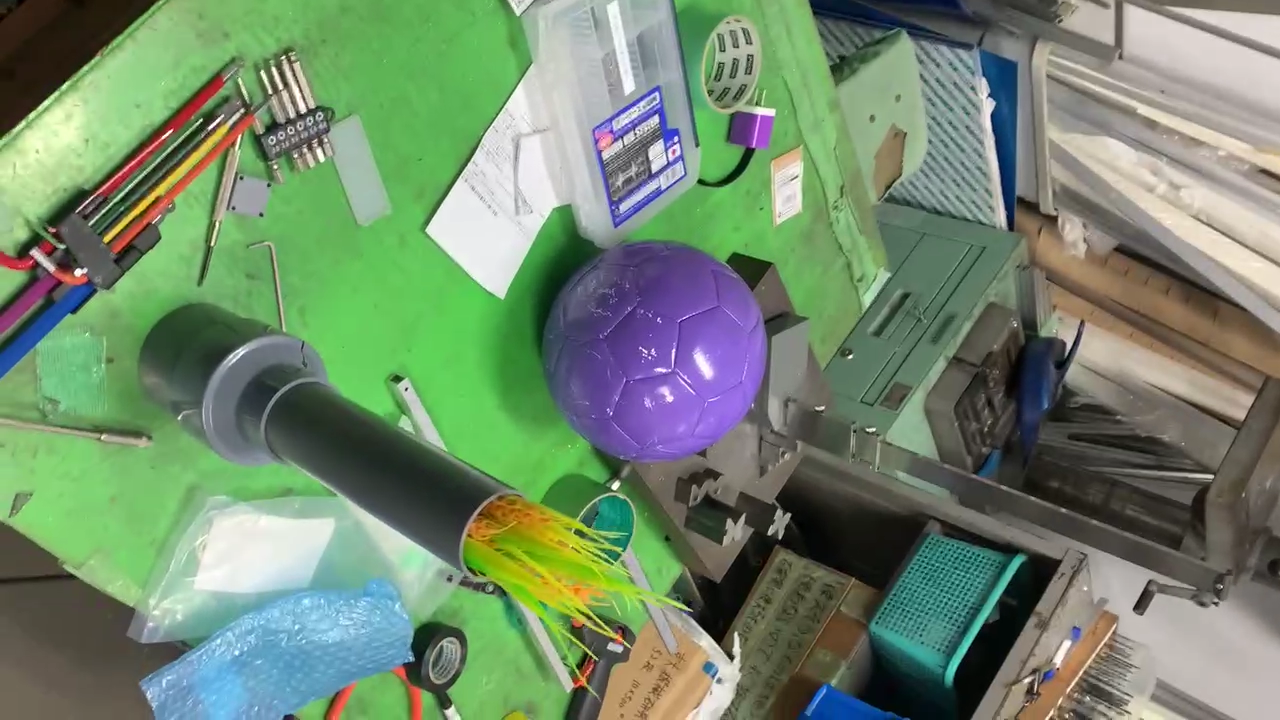purple: (537, 239, 767, 466)
